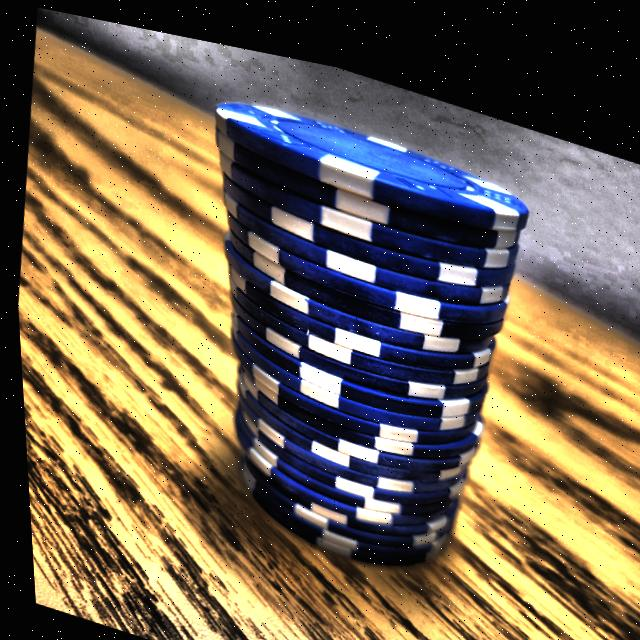Chip: (139, 36, 566, 619)
